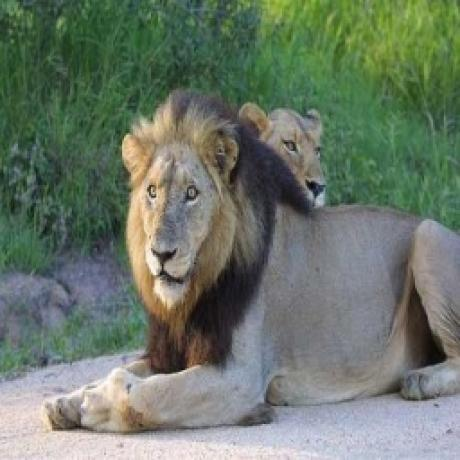Lion: (40, 87, 460, 433), (238, 97, 330, 212)
